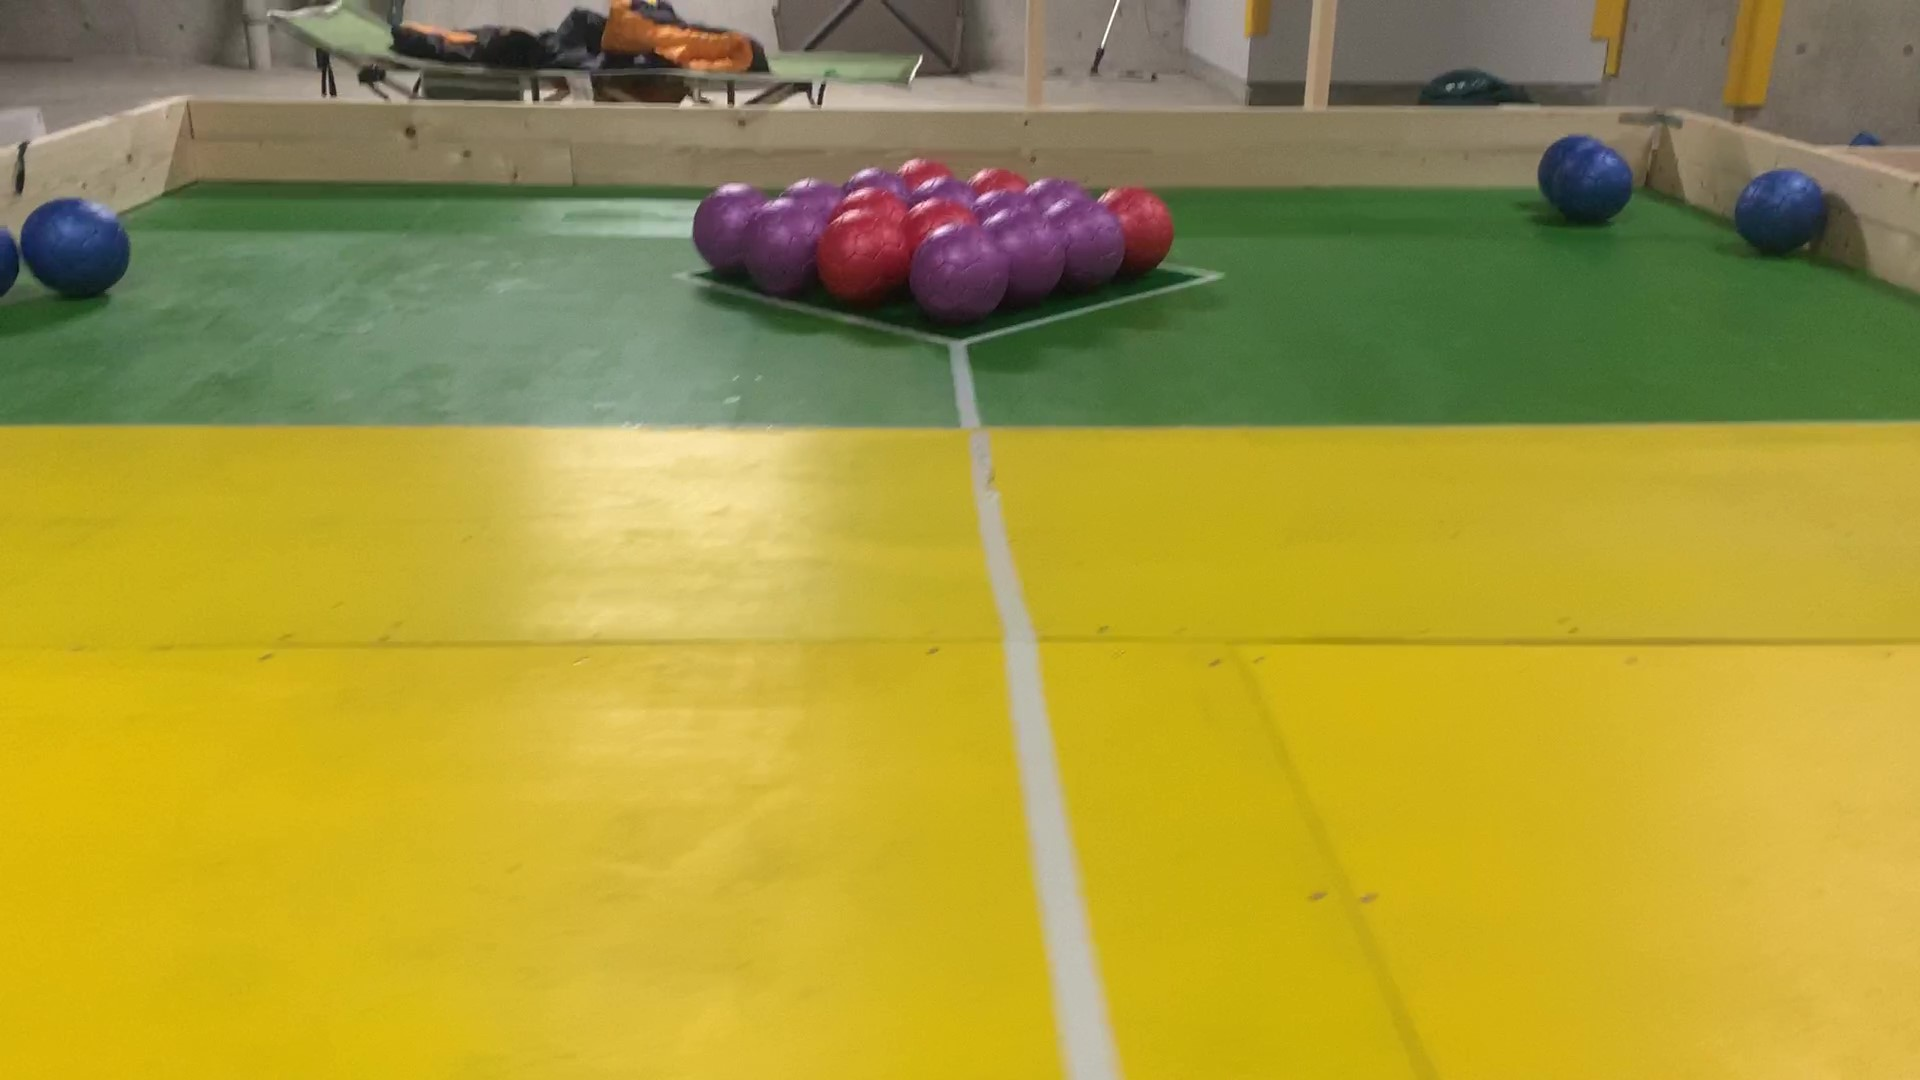blue: (25, 208, 127, 284), (1745, 170, 1825, 251), (1560, 150, 1625, 222), (1542, 142, 1557, 212), (0, 222, 12, 286)
purple: (920, 243, 997, 315), (753, 207, 811, 293), (694, 186, 744, 280), (1002, 220, 1052, 298), (1067, 207, 1113, 284), (1035, 179, 1088, 206), (915, 182, 972, 202), (980, 196, 1034, 216), (786, 182, 832, 204), (852, 173, 899, 190)
red: (822, 220, 898, 293), (1122, 193, 1170, 276), (914, 206, 973, 232), (910, 207, 972, 232), (843, 193, 903, 218), (899, 153, 952, 178), (975, 167, 1026, 193)
